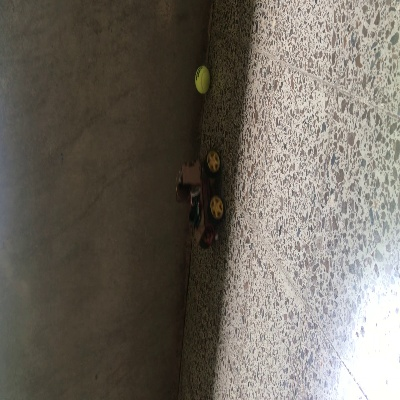Ball: (194, 65, 208, 93)
Robot: (173, 149, 225, 249)
